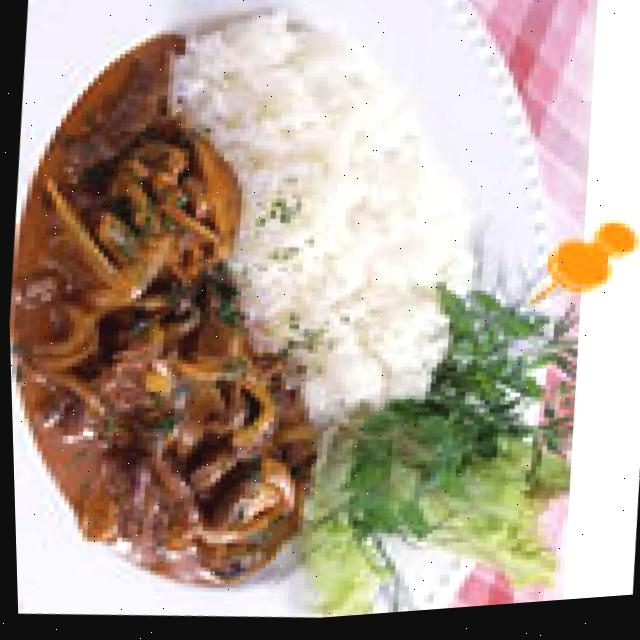牛肉菜式: (0, 0, 582, 640)
